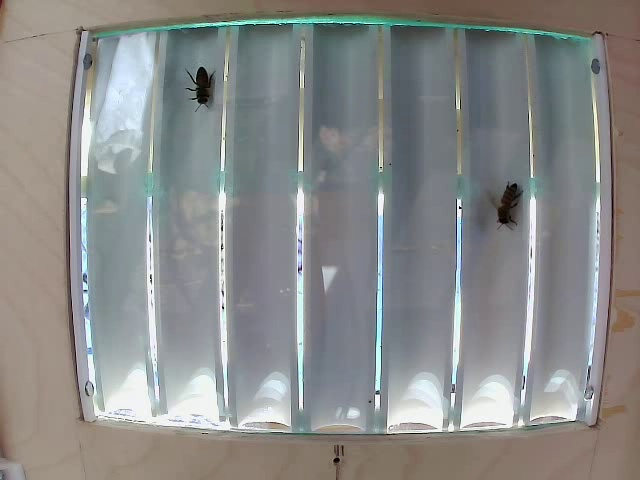bee: (484, 174, 521, 241), (184, 61, 222, 109)
